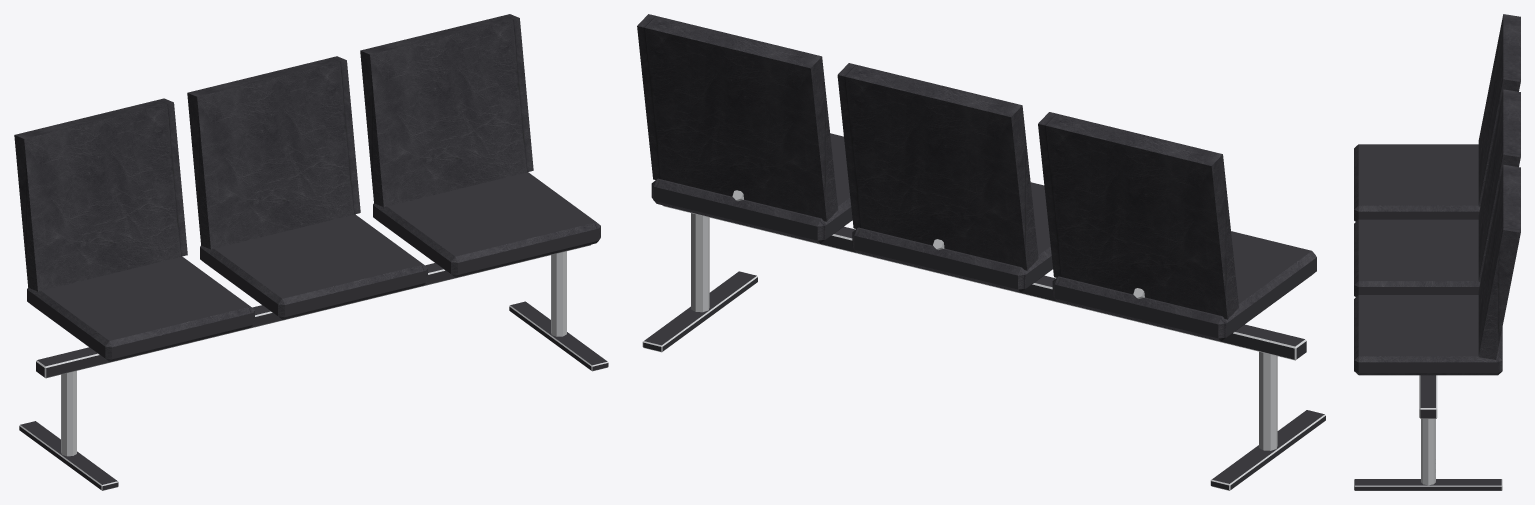
The model's file is waiting_chairs.glb.
3 renders of one model, left to right at view 1: azimuth 30°, elevation 25°; view 2: azimuth 150°, elevation 25°; view 3: azimuth 270°, elevation 25°, orthographic. The views are drawn at different scales.
Parts seen in each view (by area): view 1: waiting_chairs; view 2: waiting_chairs; view 3: waiting_chairs.
Boxes of the visible parts, x1=… form: waiting_chairs: x1=14, y1=14, x2=608, y2=490; waiting_chairs: x1=637, y1=14, x2=1325, y2=490; waiting_chairs: x1=1354, y1=14, x2=1520, y2=490.
Size of the model in its own units: 1.9 by 0.9616 by 0.5612.
2 materials, 1 textured.
